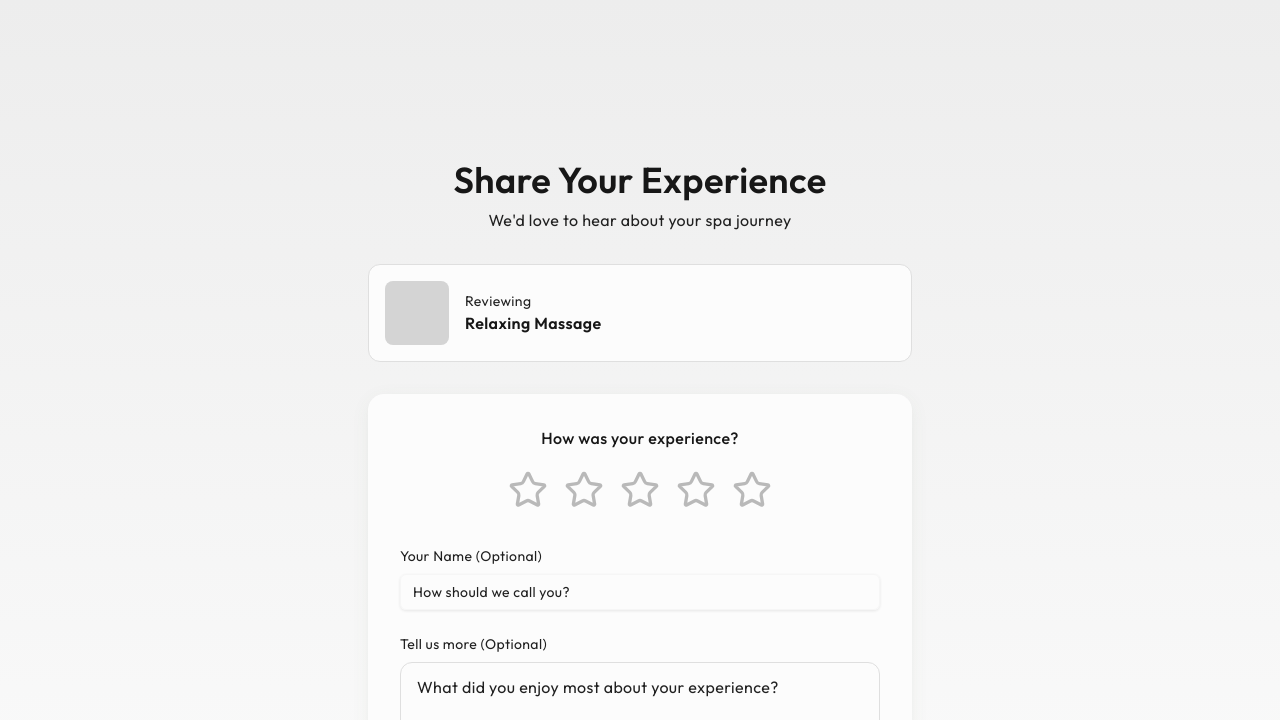
Test: ReviewPageClient › shows an error toast when submitReview rejects
What coordinates should you click on to do the following:
click the button named "beri rating 1 bintang"
I would click on:
 (528, 490)
Its box is 504,466 -> 552,514.
(page scrolled)
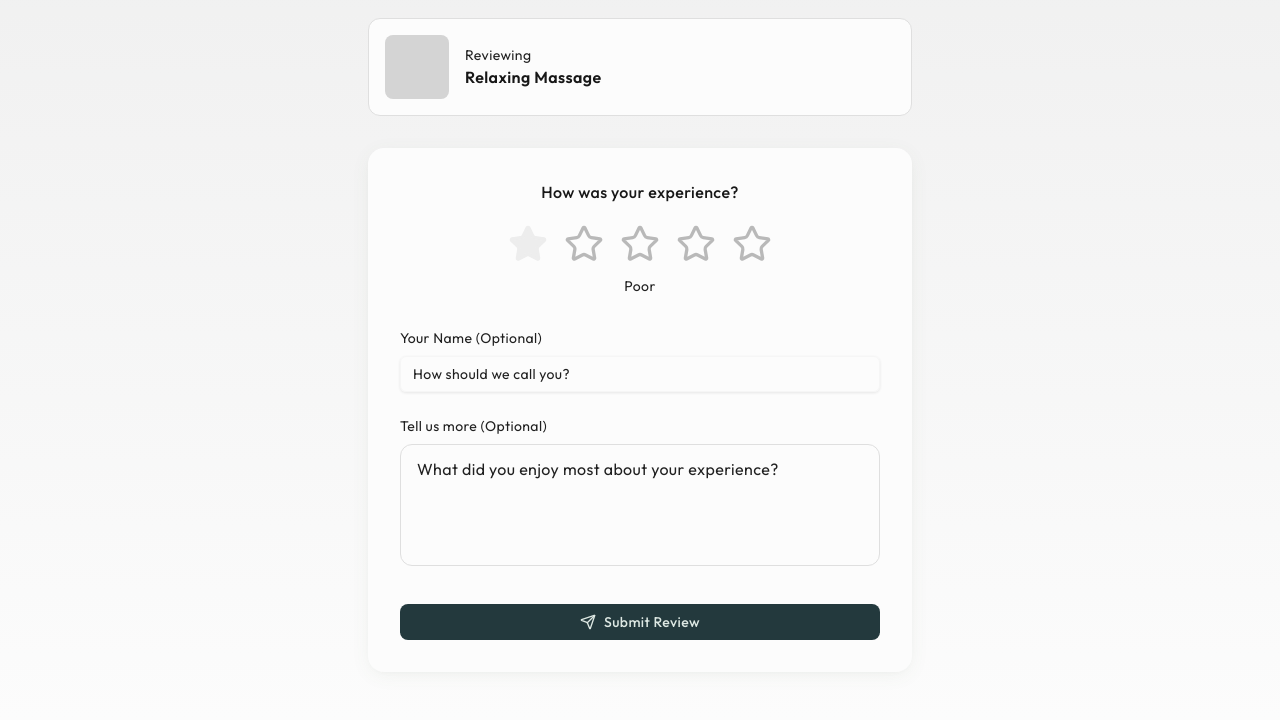
What coordinates should you click on to do the following:
click the button "Submit Review"
I would click on:
 (640, 622)
Its box is 400,604 -> 880,640.
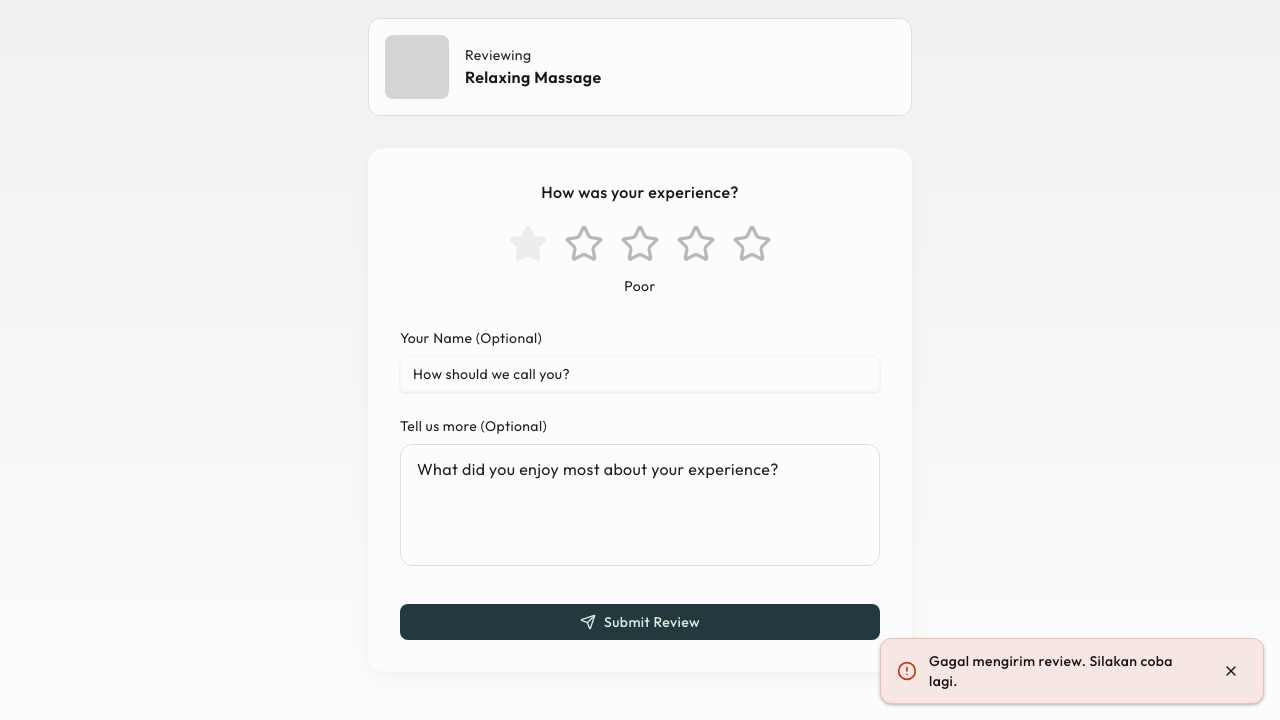
expect the text "Gagal mengirim review. Silakan coba lagi." is shown: met, box 929,651 -> 1203,691
